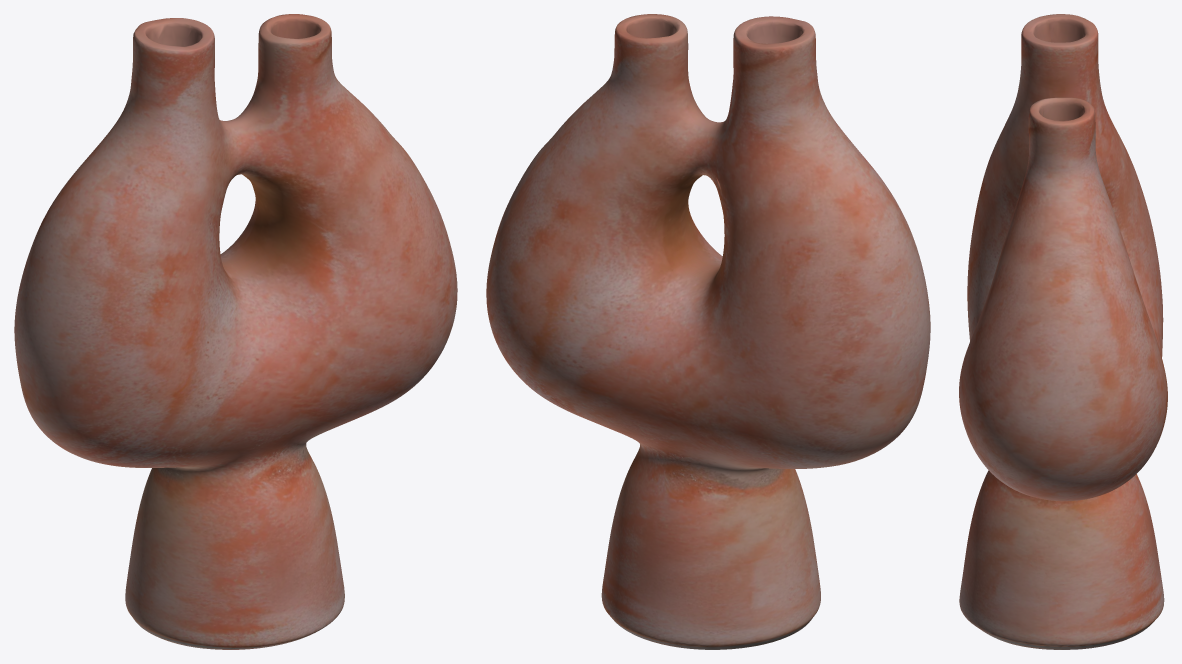
File: 0-terracotta-two-spout-sculptural-vase-scaled-opt.glb
3 renders of one model, left to right at view 1: azimuth 30°, elevation 25°; view 2: azimuth 150°, elevation 25°; view 3: azimuth 270°, elevation 25°, orthographic. The views are drawn at different scales.
Visible parts, largest first — view 1: material; view 2: material; view 3: material.
Part boxes in pixels (bbox=[...]): material: bbox=[14, 14, 457, 649]; material: bbox=[486, 14, 930, 649]; material: bbox=[959, 14, 1167, 649].
Bounding box in the file's own units: 0.38 × 0.5167 × 0.1771.
Materials: 1 (1 with a texture image).
